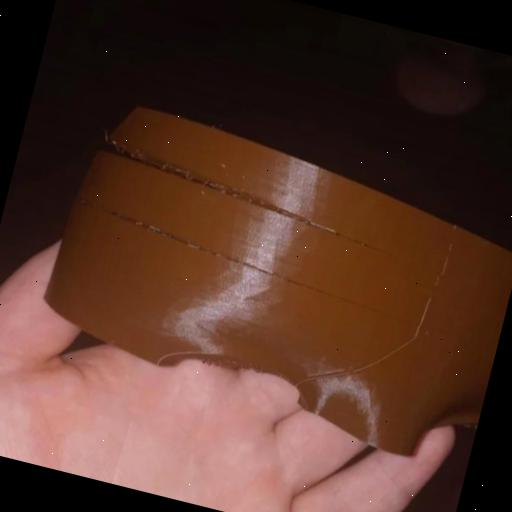cracks: (74, 194, 426, 342), (84, 130, 410, 264)
